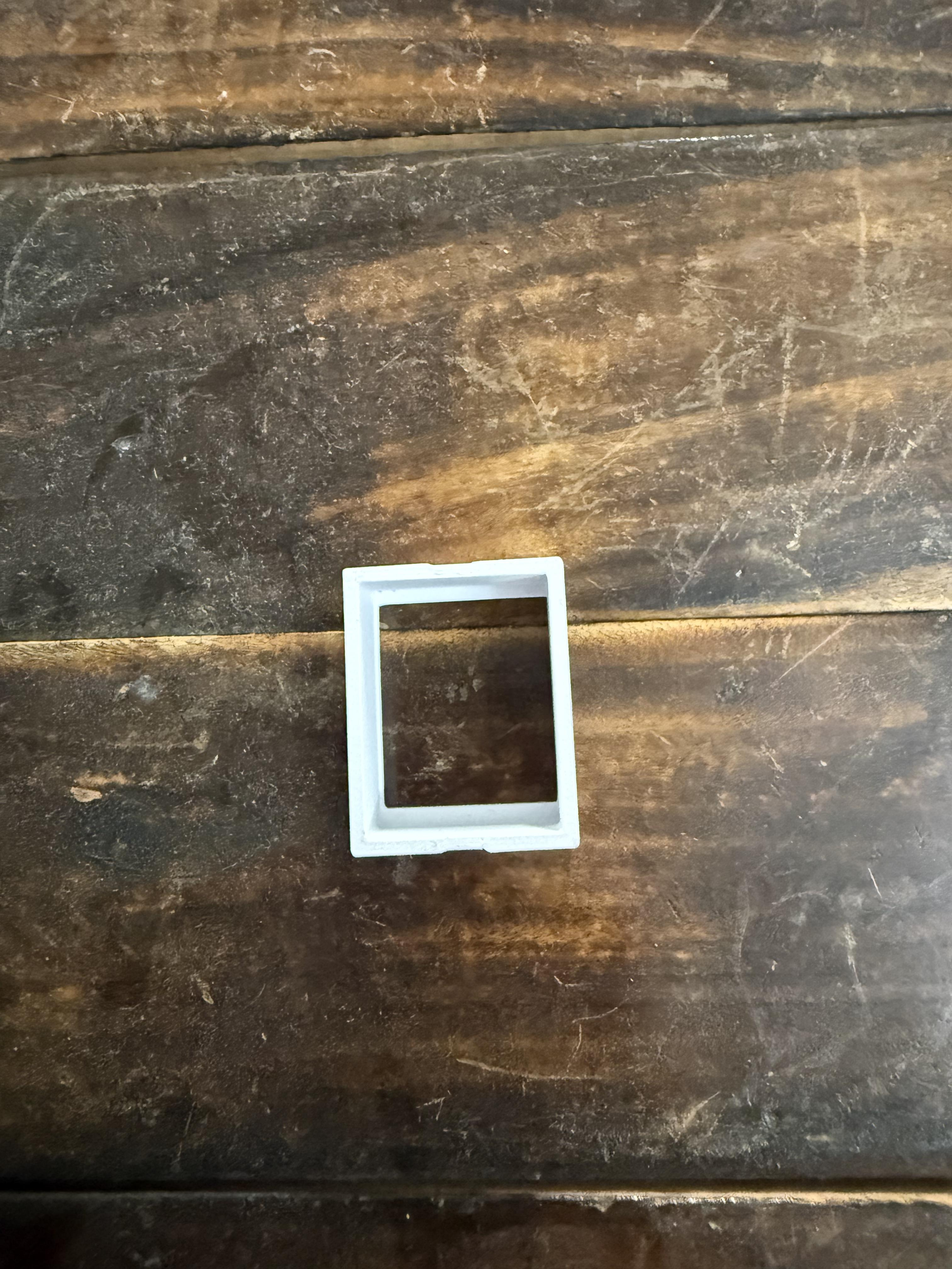enclosure: (342, 556, 580, 858)
